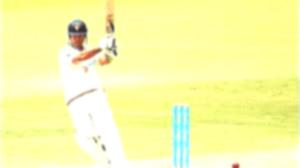batsman: (46, 2, 146, 166)
